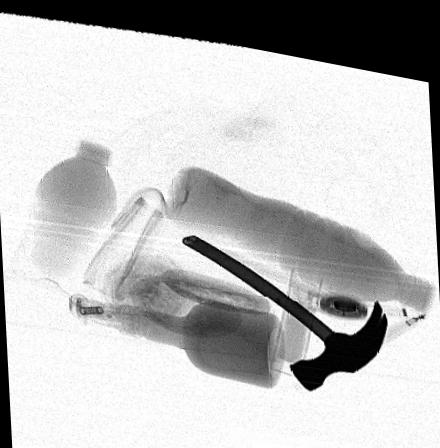Hammer: (181, 226, 387, 378)
